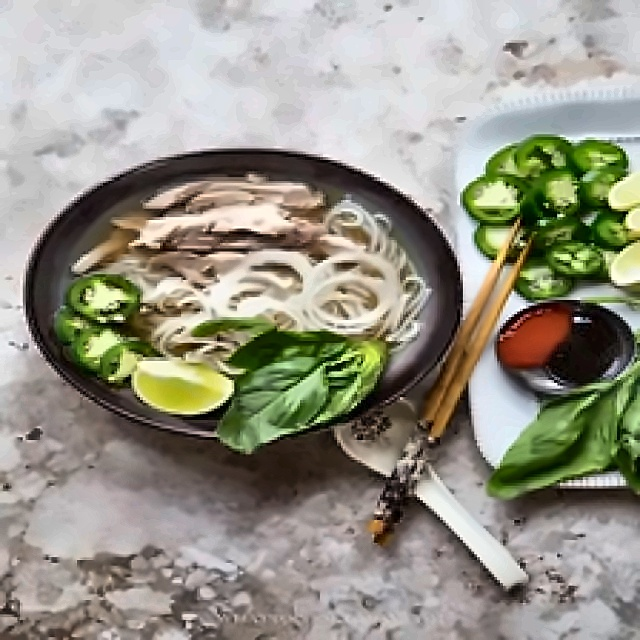lime_wedge: (123, 351, 234, 420)
noodle: (200, 168, 451, 363), (161, 260, 423, 349)
